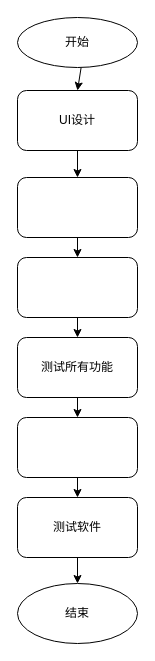
The diagram is 155 pixels wide and 661 high, and some of its shapes have lost their labels. Each missing label, with the box of its shape:
关联按钮功能: (16, 176, 138, 238)
实现每个功能: (16, 256, 138, 318)
打包成EXE: (16, 416, 138, 478)
